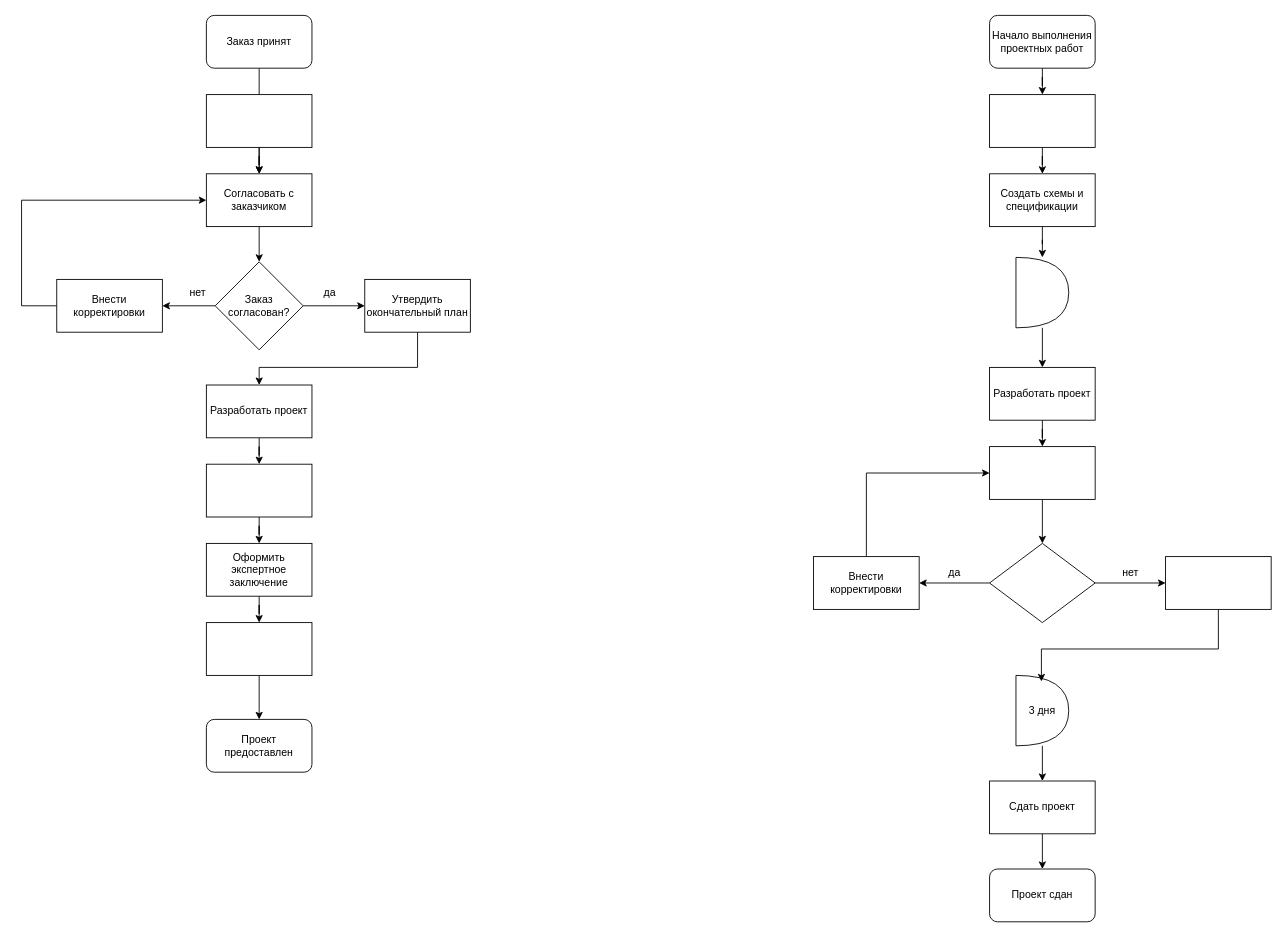
The diagram is 1287 pixels wide and 937 high, and some of its shapes have lost their labels. The shapes that lost their labels are listed below. From the top down, each one's box as (x1, y1, x2, y2) in pixels, then its label:
(205, 94, 312, 147): Разработать календарный план
(989, 94, 1095, 147): Собрать и проанализировать данные
(1015, 257, 1069, 328): 1 день
(205, 463, 312, 517): Продемонстрировать работы эксперту
(989, 446, 1095, 499): Проедоставить промежуточные рпоекты
(989, 543, 1095, 623): Корректировки необходимы?
(1165, 556, 1271, 609): Подготовить все документы проекта
(205, 622, 312, 675): Предоставить проект и заключение заказчику
